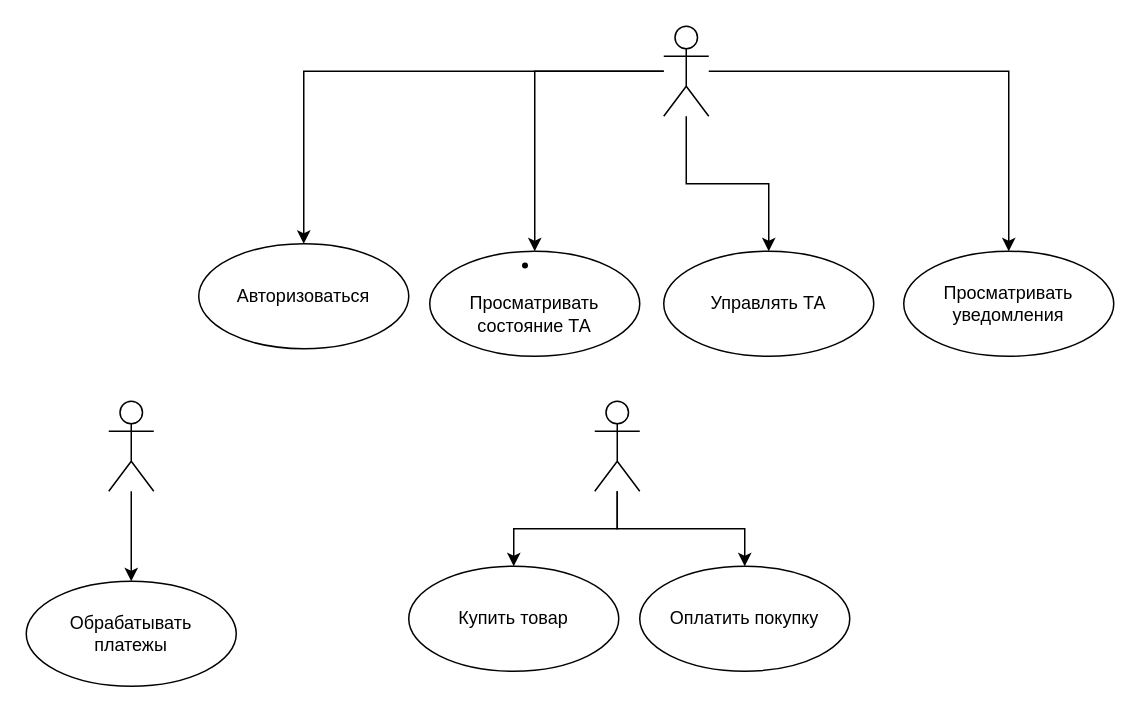
Image size: 1140x713. Some labels were removed from this diagram. The box of each missing label's shape, as (x1, y1, x2, y2) in pixels:
Администратор: (662, 25, 709, 116)
Клиент: (593, 400, 640, 491)
Платежная система: (107, 400, 154, 491)
